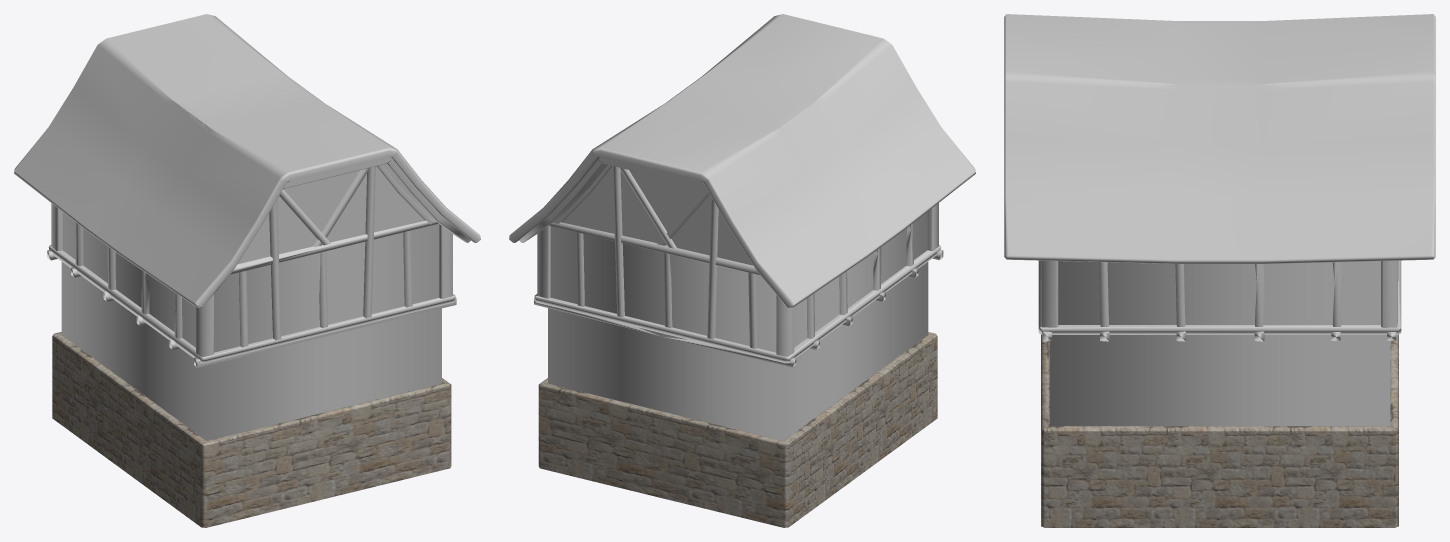
The model's file is HouseBricksLarge_1.fbx.
3 views of the same model, side by side, from view 1: azimuth 30°, elevation 25°; view 2: azimuth 150°, elevation 25°; view 3: azimuth 270°, elevation 25° (orthographic). The views are drawn at different scales.
Parts seen in each view (by area): view 1: Mesh; view 2: Mesh; view 3: Mesh.
Boxes of the visible parts, x1,y1,x2,y2 form: Mesh: (14,14,480,527); Mesh: (509,14,975,527); Mesh: (1004,14,1435,527).
Size of the model in its own units: 1068 by 1252 by 1191.
